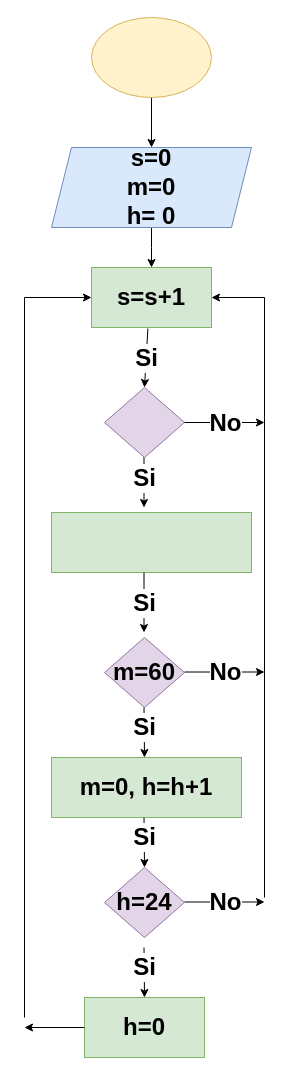
Image size: 290x1075. Some labels were removed from this diagram. Here are the shapes that lost their labels. From the top down, the box of each, then its label:
(90, 16, 212, 98): Inicio
(104, 386, 184, 458): s=60
(50, 512, 252, 572): s=0, m=m+1
